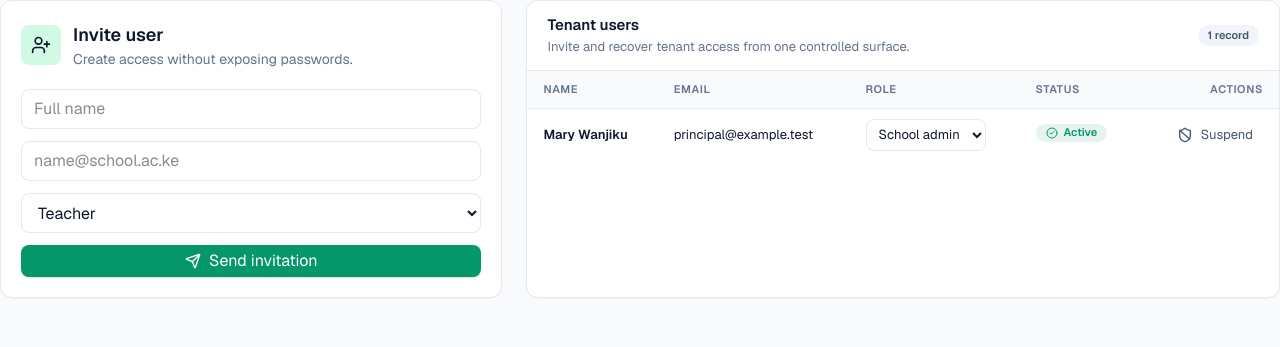
Scenario: school user management › persists member suspension through the tenant user proxy
This screenshot has width=1280, height=347.
expect the text "Mary Wanjiku" is shown: met, box left=543, top=126, right=628, bottom=143
What coordinates should you click on to do the following:
click the button with aria-label "suspend mary wanjiku"
I would click on:
 (1215, 134)
Its box is left=1167, top=120, right=1263, bottom=148.
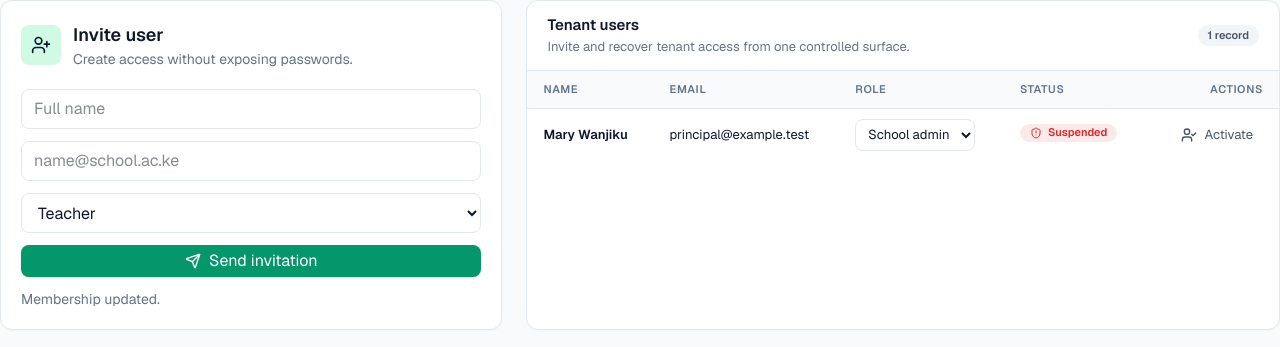
expect the text "Membership updated." is shown: met, box left=21, top=290, right=160, bottom=308
expect the text "Suspended" is shown: met, box left=1020, top=124, right=1117, bottom=142
